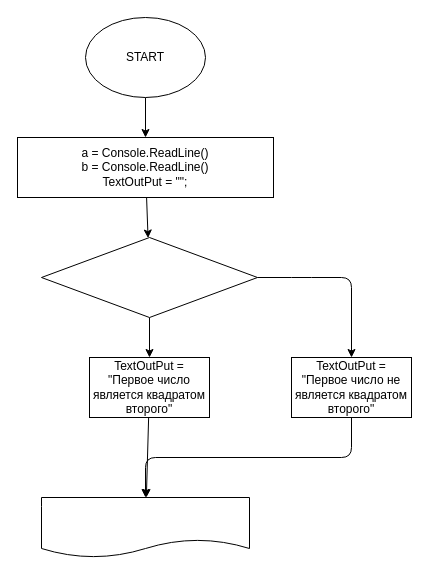
The diagram is 429 pixels wide and 575 high, and some of its shapes have lost their labels. Each missing label, with the centre of its shape:
a = b*b: [149,277]
Console.WriteLine(TextOutput): [145,527]
